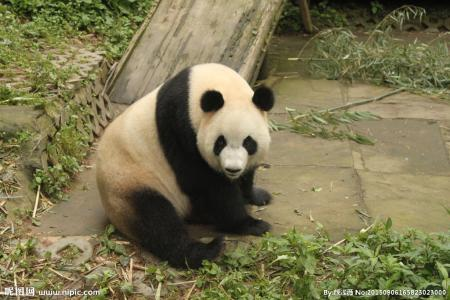panda: (93, 57, 278, 271)
